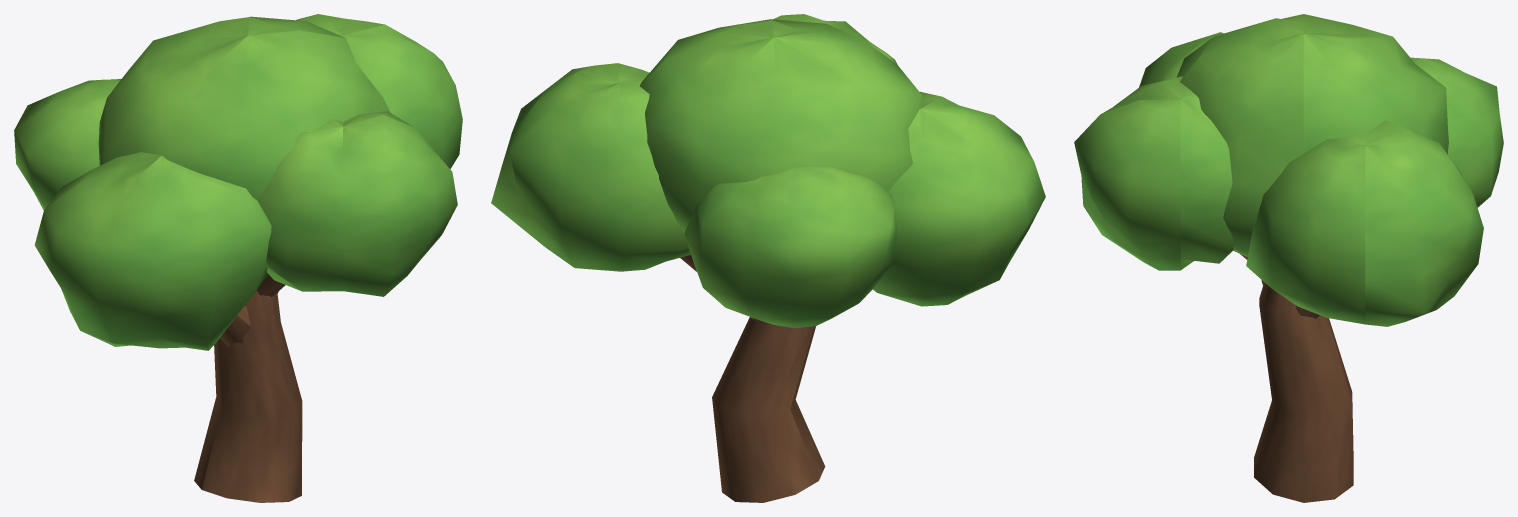
The model's file is oak.glb.
3 views of the same model, side by side, from view 1: azimuth 30°, elevation 25°; view 2: azimuth 150°, elevation 25°; view 3: azimuth 270°, elevation 25° (orthographic). The views are drawn at different scales.
Parts seen in each view (by area): view 1: oak; view 2: oak; view 3: oak.
Part boxes in pixels (x1=…): oak: x1=14, y1=14, x2=462, y2=502; oak: x1=491, y1=14, x2=1045, y2=502; oak: x1=1074, y1=14, x2=1503, y2=502.
Bounding box in the file's own units: 117 × 112 × 97.66.
2 materials, 2 textured.
